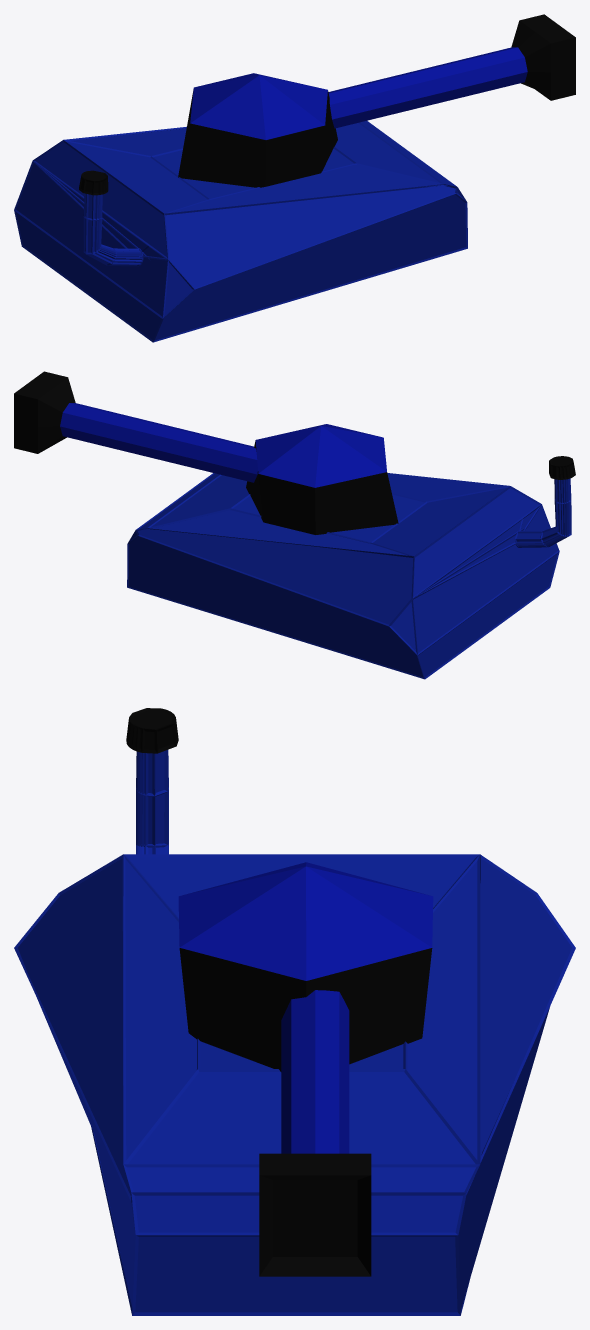
File: tank.glb
3 renders of one model, top to bottom at view 1: azimuth 30°, elevation 25°; view 2: azimuth 150°, elevation 25°; view 3: azimuth 270°, elevation 25°, orthographic. The views are drawn at different scales.
Visible parts, largest first — view 1: Cube.004, Cube.001, Cube.002, Cube.003; view 2: Cube.004, Cube.001, Cube.002, Cube.003; view 3: Cube.004, Cube.001, Cube.002, Cube.003.
Boxes of the visible parts, <box> form: Cube.004: <box>16,121,466,340</box>; Cube.001: <box>178,73,337,187</box>; Cube.002: <box>328,14,575,128</box>; Cube.003: <box>14,121,467,342</box>; Cube.004: <box>128,457,574,677</box>; Cube.001: <box>246,424,398,534</box>; Cube.002: <box>14,371,257,482</box>; Cube.003: <box>127,456,575,679</box>; Cube.004: <box>18,711,572,1312</box>; Cube.001: <box>178,862,433,1071</box>; Cube.002: <box>259,990,371,1276</box>; Cube.003: <box>14,708,575,1315</box>.
Bounding box in the file's own units: 19.17 × 6.15 × 10.05.
